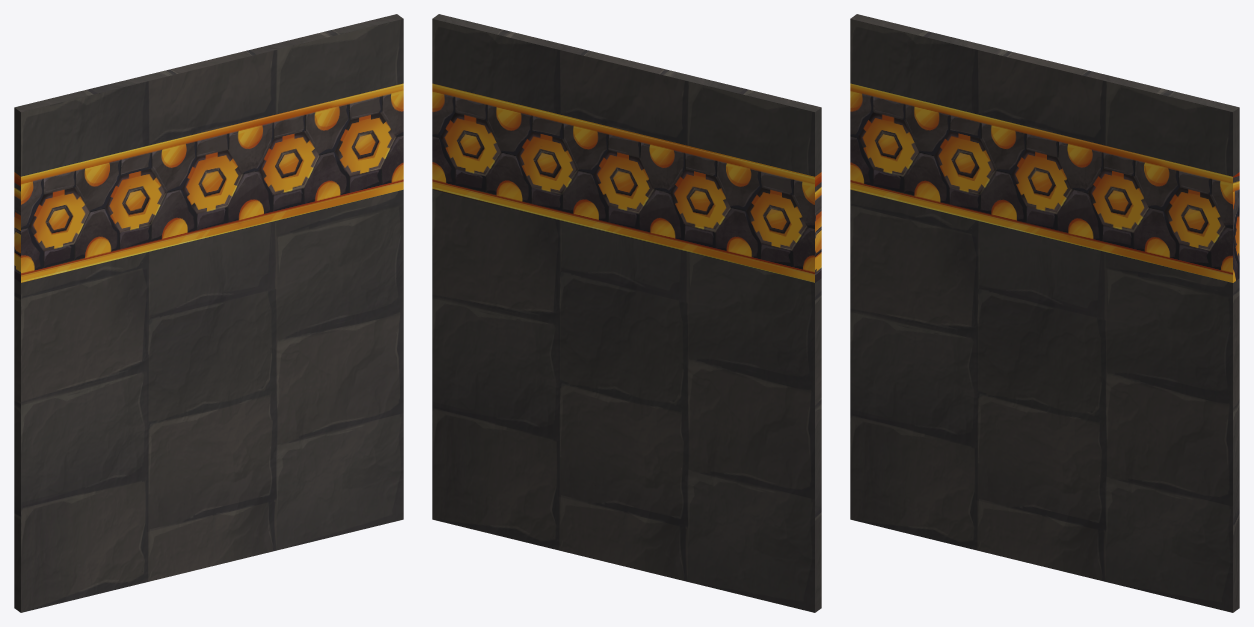
The model's file is Wall_Blank_Border.fbx.
3 views of the same model, side by side, from view 1: azimuth 30°, elevation 25°; view 2: azimuth 150°, elevation 25°; view 3: azimuth 330°, elevation 25° (orthographic).
Parts seen in each view (by area): view 1: Wall_W_A_Blank1; view 2: Wall_W_A_Blank1; view 3: Wall_W_A_Blank1.
Part boxes in pixels (x1,y1,x2,y2): Wall_W_A_Blank1: (14,14,403,612); Wall_W_A_Blank1: (432,14,821,612); Wall_W_A_Blank1: (850,14,1239,612).
Bounding box in the file's own units: 200 × 250 × 6.
